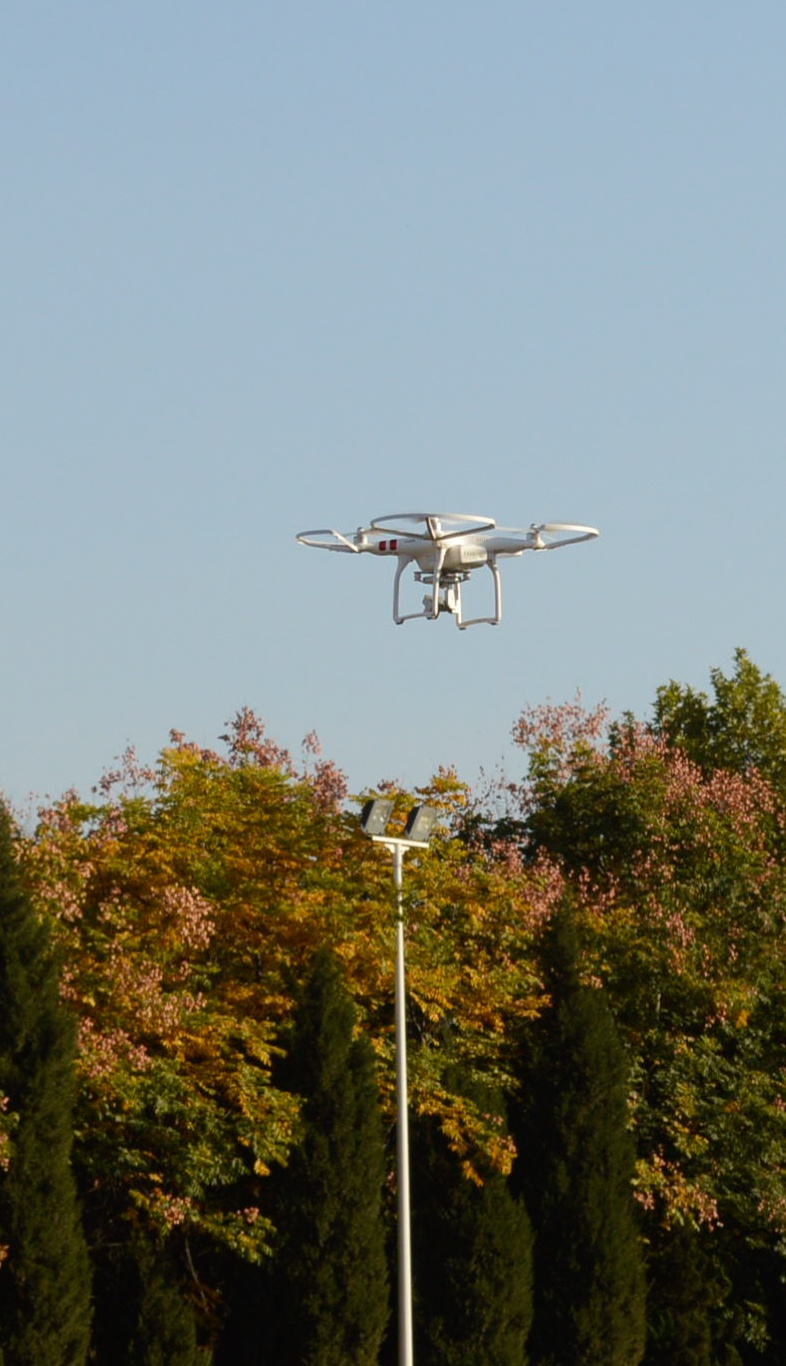DJI: (299, 511, 601, 630)
